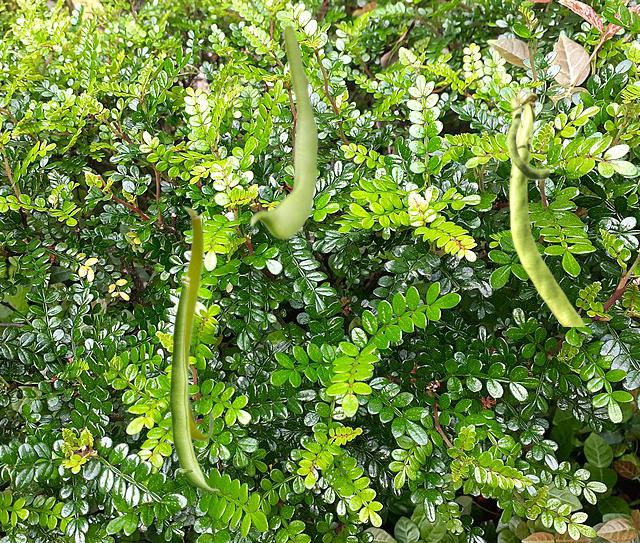french_bean: (506, 89, 584, 325), (249, 23, 317, 238), (169, 275, 220, 490), (177, 205, 213, 441)
